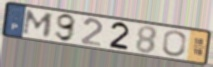2: (80, 17, 104, 48), (108, 22, 131, 52)
8: (135, 25, 159, 55)
9: (52, 14, 78, 43)
M: (21, 9, 55, 38)
O: (161, 30, 188, 58)
